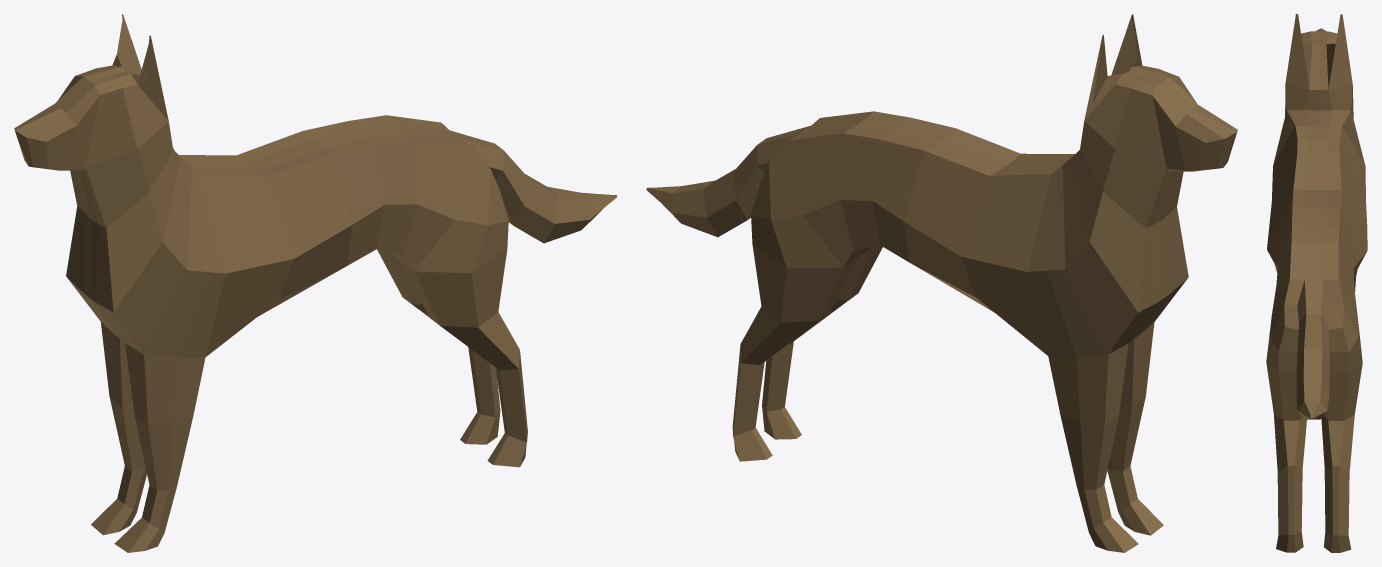
Rendered from lowpoly dog.fbx.
The picture shows the model from 3 angles, left to right: view 1: azimuth 30°, elevation 25°; view 2: azimuth 150°, elevation 25°; view 3: azimuth 270°, elevation 25°; orthographic projection. The views are drawn at different scales.
Parts seen in each view (by area): view 1: Plane; view 2: Plane; view 3: Plane.
Part boxes in pixels (x1,y1,x2,y2): Plane: [14, 14, 617, 552]; Plane: [646, 14, 1237, 552]; Plane: [1266, 14, 1367, 552].
Size of the model in its own units: 438 by 357 by 82.3.
